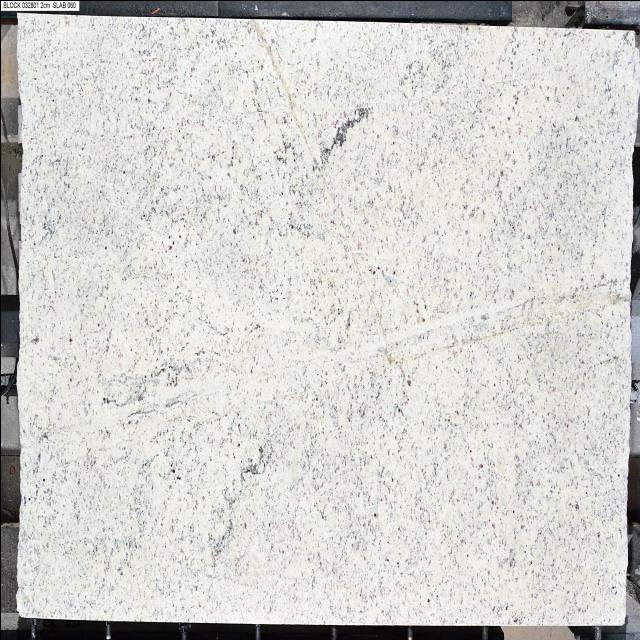chapa: (16, 13, 638, 624)
